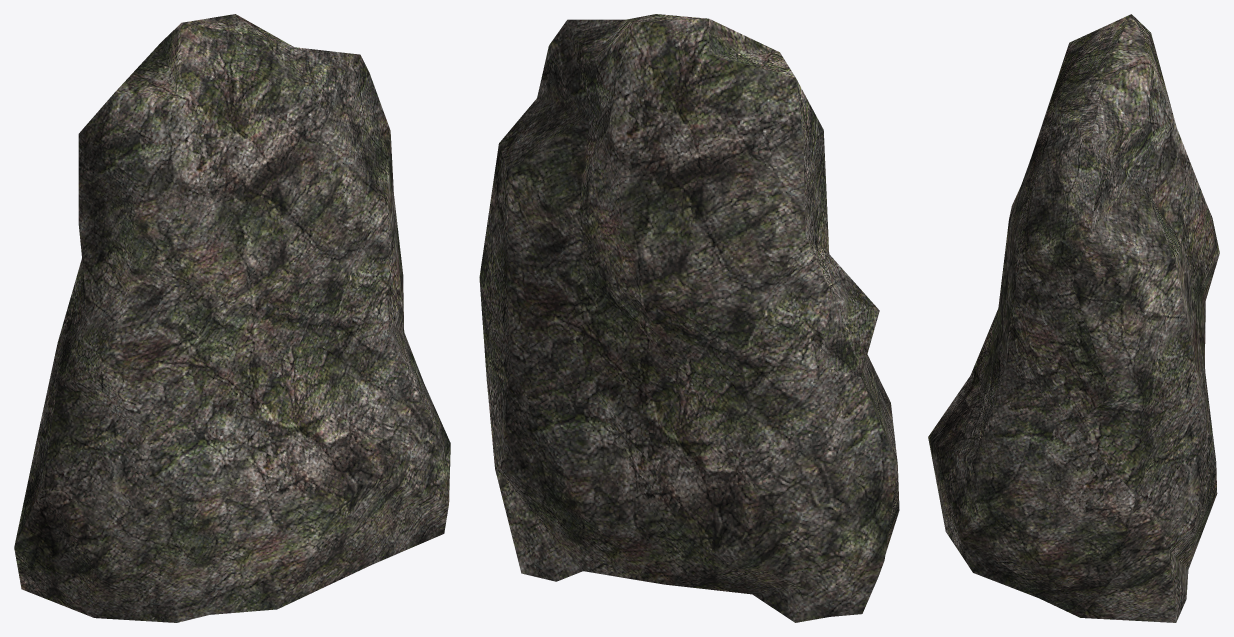
File: Rock9_1_LP.FBX
3 views of the same model, side by side, from view 1: azimuth 30°, elevation 25°; view 2: azimuth 150°, elevation 25°; view 3: azimuth 270°, elevation 25° (orthographic). The views are drawn at different scales.
Parts seen in each view (by area): view 1: Rock9_LP_Rock9_LP; view 2: Rock9_LP_Rock9_LP; view 3: Rock9_LP_Rock9_LP.
Boxes of the visible parts, x1,y1,x2,y2 form: Rock9_LP_Rock9_LP: [14, 14, 450, 622]; Rock9_LP_Rock9_LP: [479, 14, 899, 622]; Rock9_LP_Rock9_LP: [928, 14, 1219, 622].
Bounding box in the file's own units: 2688 × 3719 × 1838.
